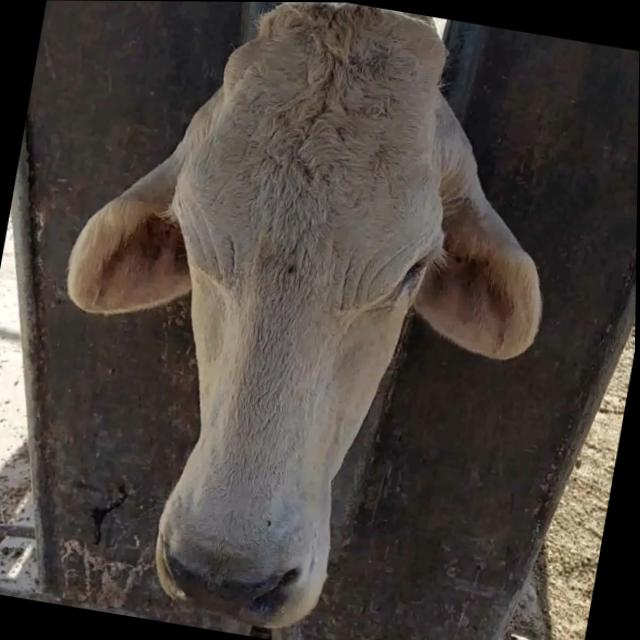cowFace: (113, 1, 493, 637)
